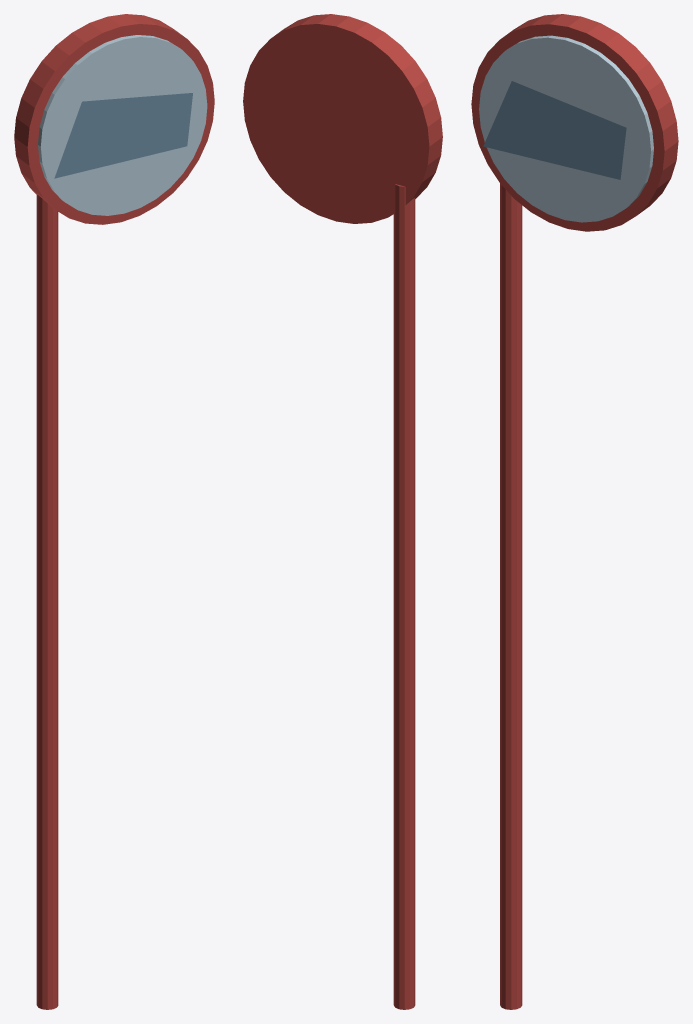
File: SM_RoadsideMirror.fbx
The picture shows the model from 3 angles, left to right: view 1: azimuth 30°, elevation 25°; view 2: azimuth 150°, elevation 25°; view 3: azimuth 330°, elevation 25°; orthographic projection. The views are drawn at different scales.
Parts seen in each view (by area): view 1: SM_RoadsideMirror; view 2: SM_RoadsideMirror; view 3: SM_RoadsideMirror.
Part boxes in pixels (bbox=[...]): SM_RoadsideMirror: bbox=[14, 14, 214, 1009]; SM_RoadsideMirror: bbox=[243, 14, 442, 1009]; SM_RoadsideMirror: bbox=[471, 14, 678, 1009].
Size of the model in its own units: 0.64 by 0.132 by 3.17.
